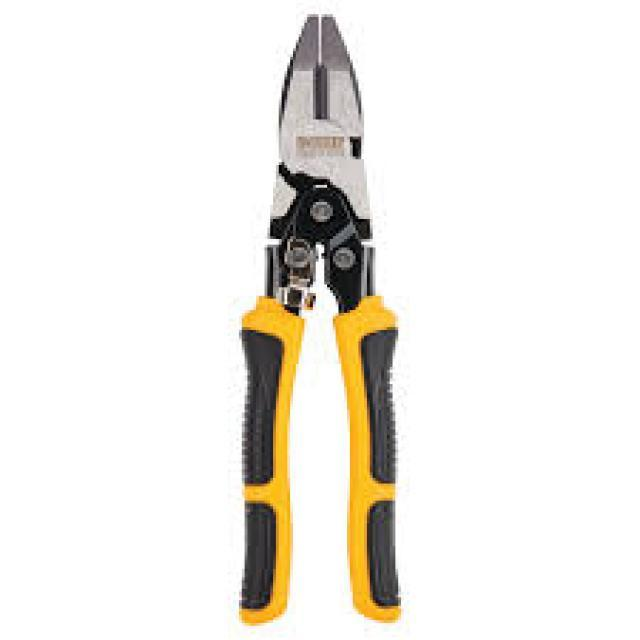pliers: (205, 5, 429, 628)
